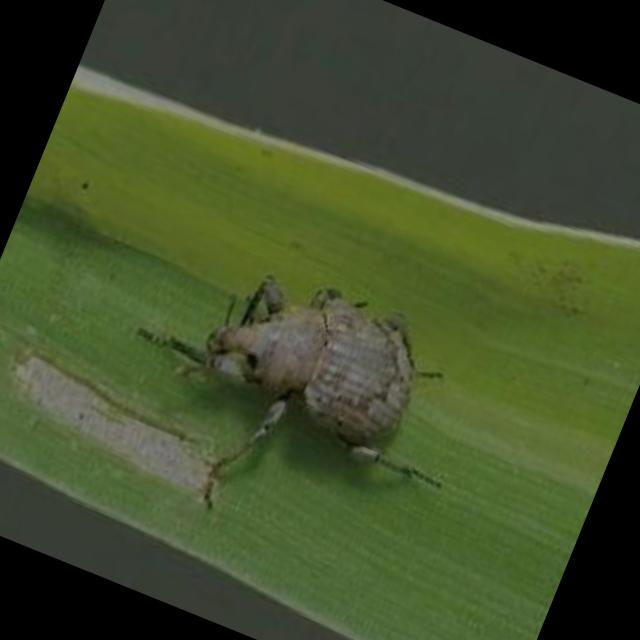rice-bug: (155, 244, 470, 535)
